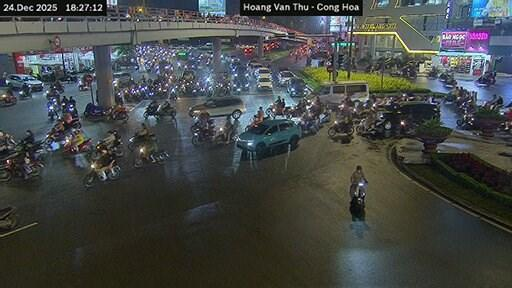motorbike: (83, 161, 120, 187), (0, 158, 42, 180), (90, 139, 124, 160), (16, 139, 48, 160), (348, 181, 364, 216), (64, 136, 92, 153), (326, 120, 354, 135), (355, 118, 381, 134), (0, 207, 18, 229), (192, 126, 214, 144), (45, 129, 70, 144), (243, 115, 268, 130), (214, 126, 236, 143), (297, 117, 319, 134), (144, 106, 176, 117), (83, 103, 108, 116), (400, 118, 419, 134), (457, 112, 473, 129), (108, 106, 127, 120), (127, 134, 144, 149), (134, 148, 147, 166), (44, 89, 60, 103), (64, 117, 80, 130), (61, 103, 77, 116), (151, 151, 169, 162), (0, 94, 16, 106), (48, 100, 57, 120), (19, 86, 32, 99), (189, 117, 201, 131), (474, 76, 490, 85), (77, 76, 88, 89), (50, 84, 64, 93), (445, 76, 457, 86), (438, 72, 450, 81), (390, 68, 400, 76), (426, 70, 437, 76), (208, 118, 213, 126), (147, 134, 153, 136)
